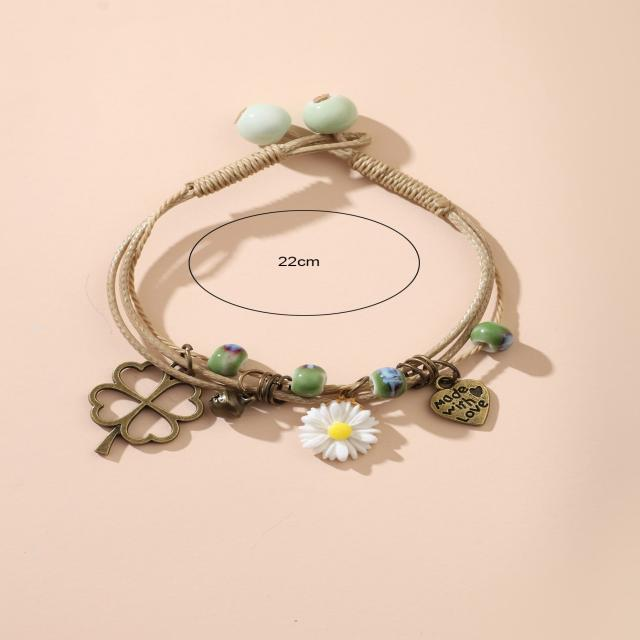bracelet: (41, 63, 640, 524)
